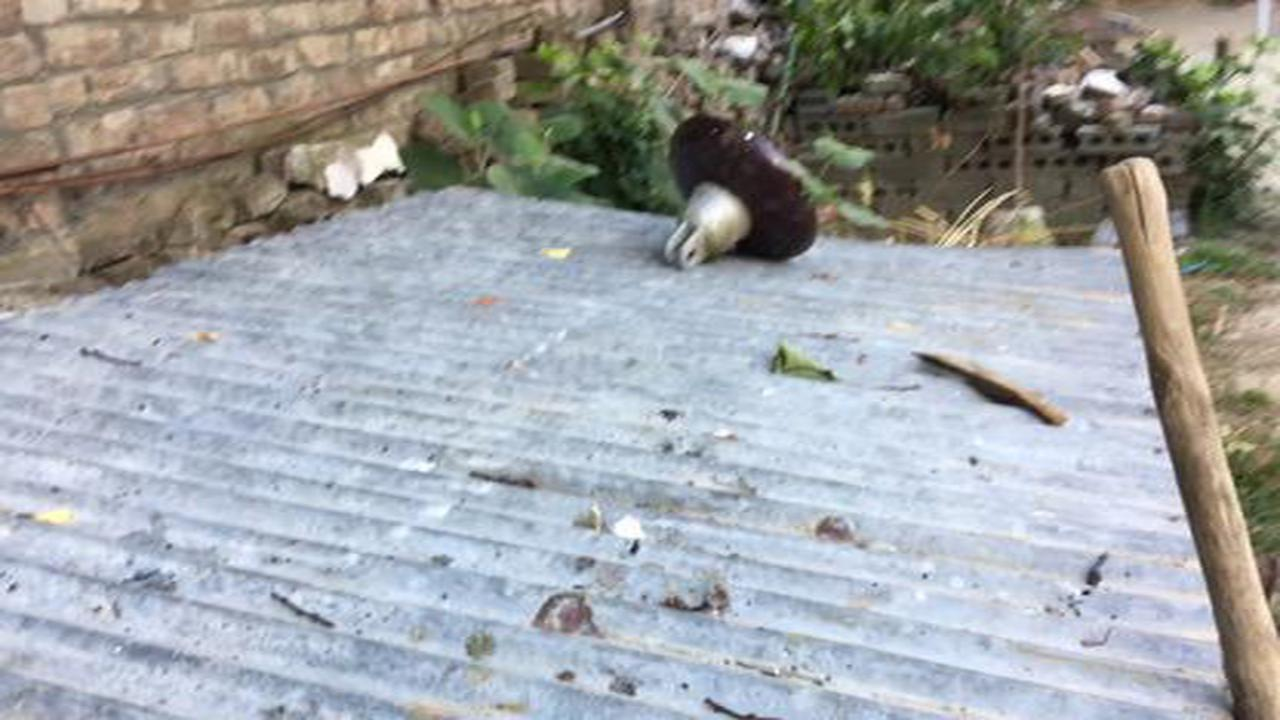insulator_disc: (656, 107, 822, 274)
